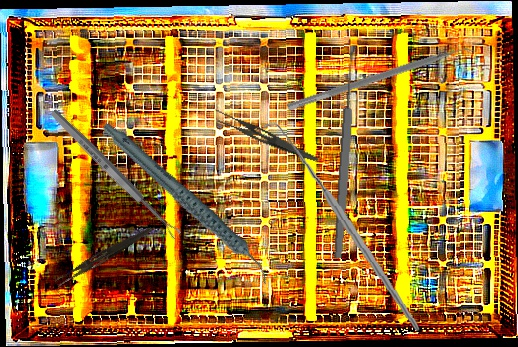Dressing Forceps: (54, 221, 154, 291), (209, 107, 323, 163)
Handpiece: (100, 95, 272, 312)
Hook Surgical: (264, 112, 421, 343)
Spatula Surgical: (286, 39, 479, 119)
Surgical Spoon: (48, 107, 182, 241), (332, 45, 359, 259)
